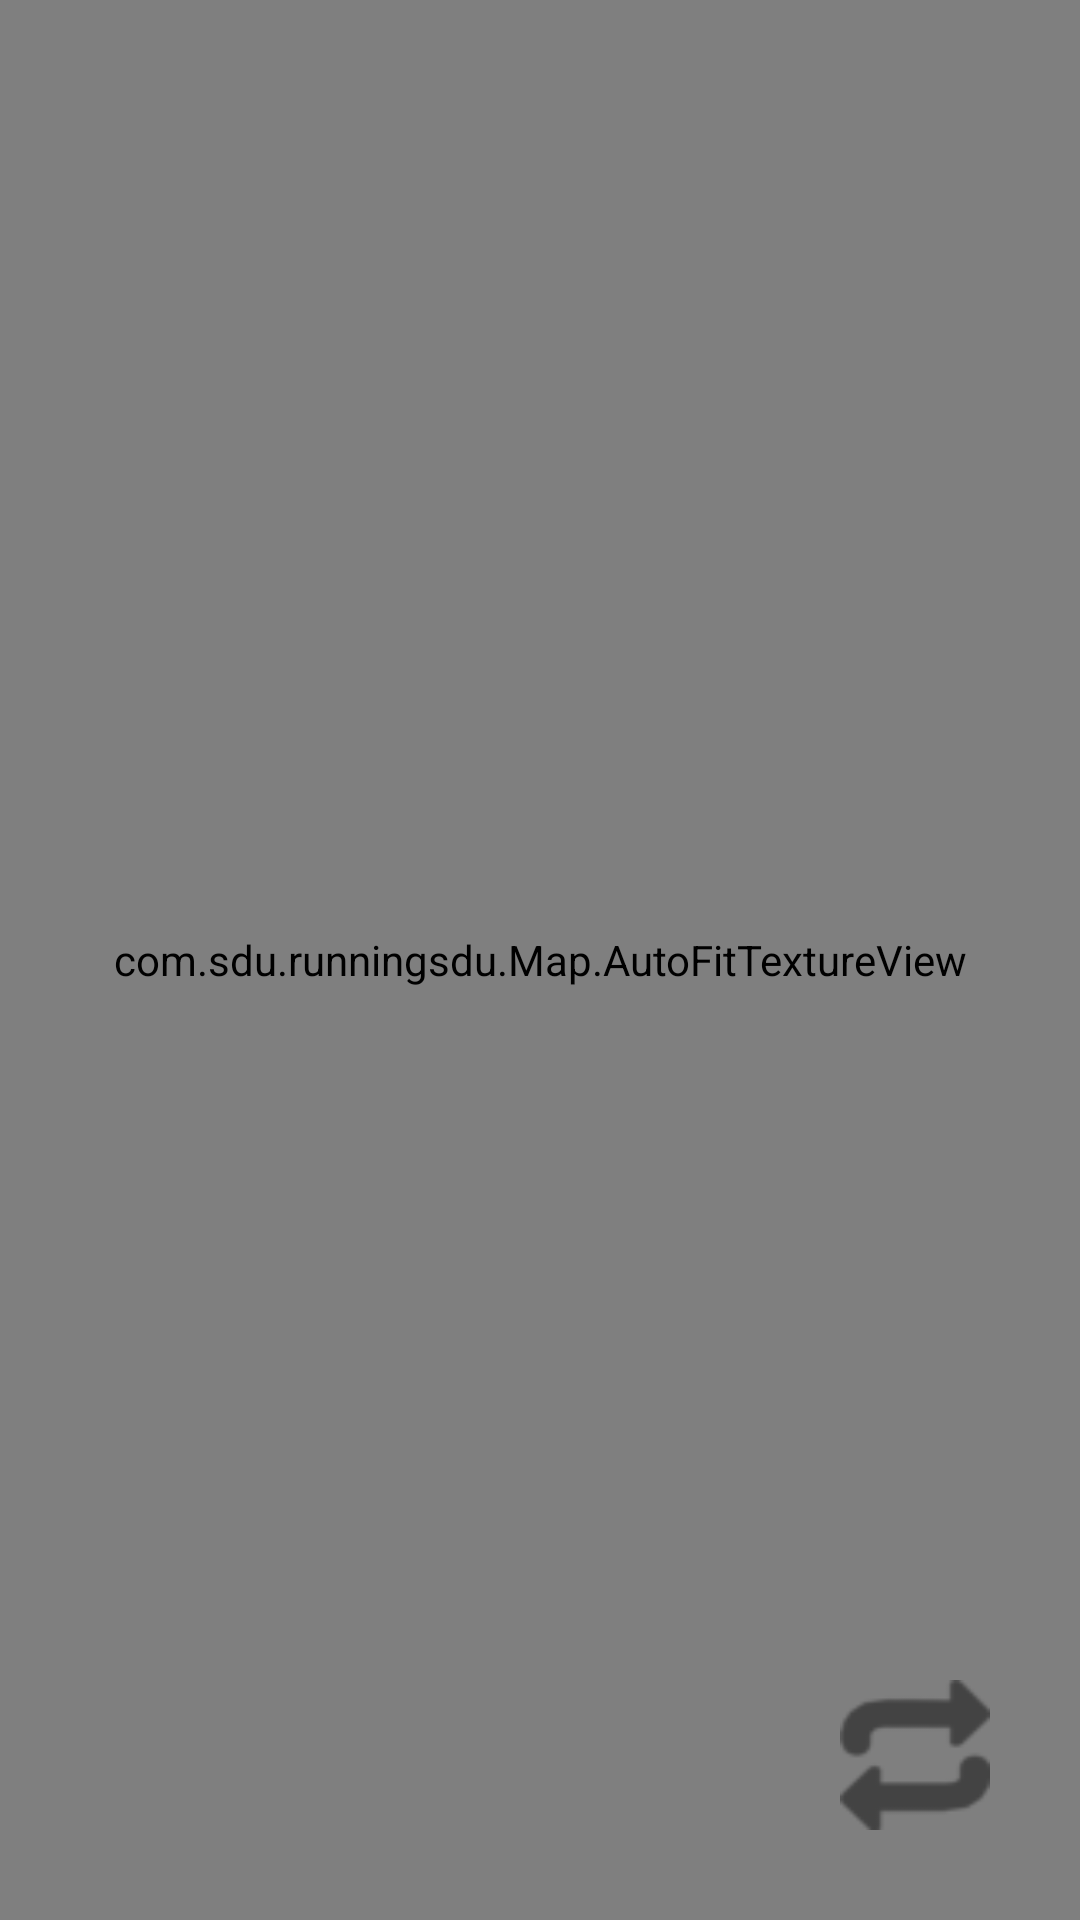

Screen size 1080*1920. Icon name, then its center in pixels as [x,y]:
changecamera: [915,1755]
